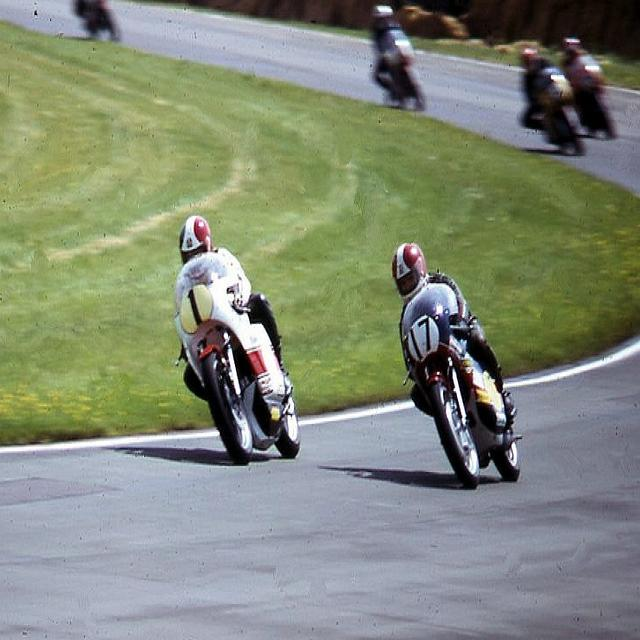motor: (175, 253, 301, 466), (396, 286, 527, 481), (518, 49, 588, 144), (561, 52, 619, 141), (379, 25, 422, 108), (80, 0, 123, 46)
